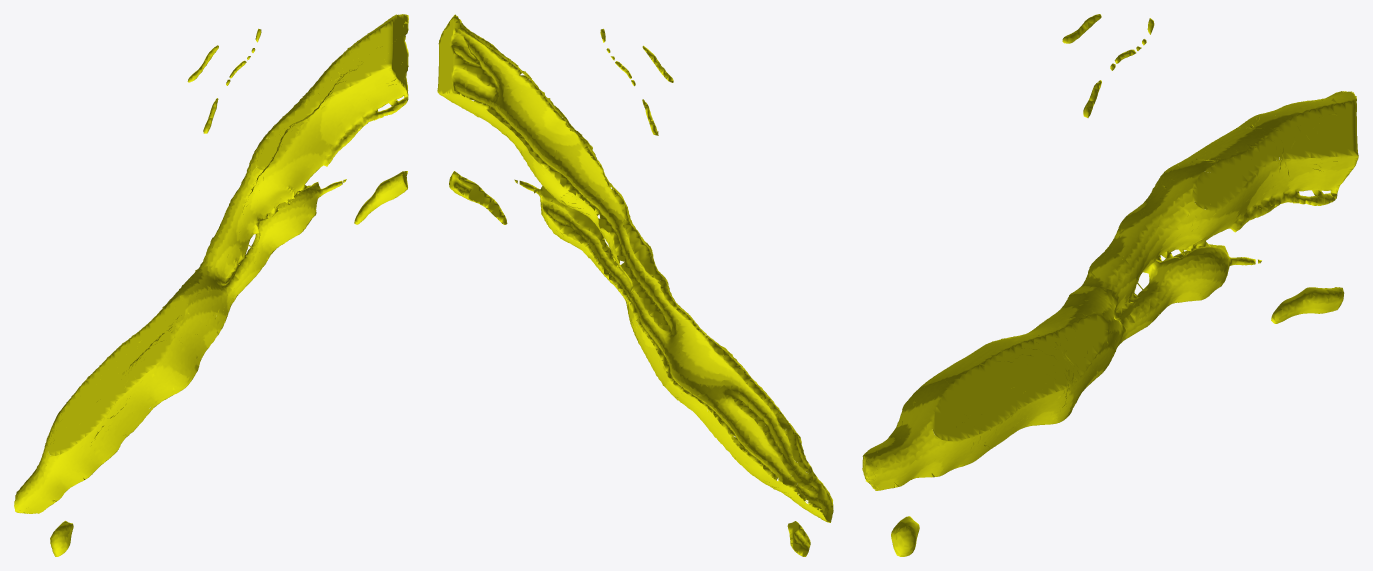
3 renders of one model, left to right at view 1: azimuth 30°, elevation 25°; view 2: azimuth 150°, elevation 25°; view 3: azimuth 330°, elevation 25°, orthographic. The views are drawn at different scales.
Visible parts, largest first — view 1: Switch_Switch_osgPicked_gmeGeoEntityGeode_Geometry_0, Switch_Switch_osgPicked_gmeGeoEntityGeode_Geometry_Geometry_ (×2); view 2: Switch_Switch_osgPicked_gmeGeoEntityGeode_Geometry_0, Switch_Switch_osgPicked_gmeGeoEntityGeode_Geometry_Geometry_ (×2); view 3: Switch_Switch_osgPicked_gmeGeoEntityGeode_Geometry_0, Switch_Switch_osgPicked_gmeGeoEntityGeode_Geometry_Geometry_ (×2).
Boxes of the visible parts, x1=… form: Switch_Switch_osgPicked_gmeGeoEntityGeode_Geometry_0: x1=14, y1=14, x2=408, y2=513; Switch_Switch_osgPicked_gmeGeoEntityGeode_Geometry_Geometry_ (×2): x1=50, y1=171, x2=407, y2=556; Switch_Switch_osgPicked_gmeGeoEntityGeode_Geometry_0: x1=437, y1=14, x2=833, y2=522; Switch_Switch_osgPicked_gmeGeoEntityGeode_Geometry_Geometry_ (×2): x1=449, y1=171, x2=810, y2=556; Switch_Switch_osgPicked_gmeGeoEntityGeode_Geometry_0: x1=862, y1=91, x2=1358, y2=490; Switch_Switch_osgPicked_gmeGeoEntityGeode_Geometry_Geometry_ (×2): x1=891, y1=287, x2=1344, y2=556.
Size of what is drawn, in the model's own units: 38517 by 45894 by 3667.
